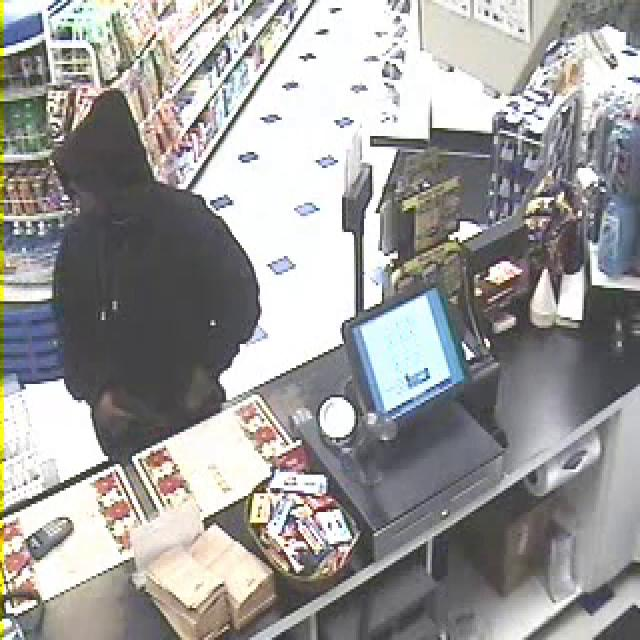robbery: (7, 125, 266, 562)
